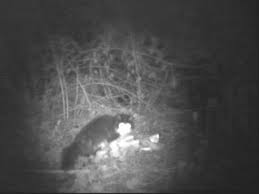house cat: (61, 106, 123, 165)
